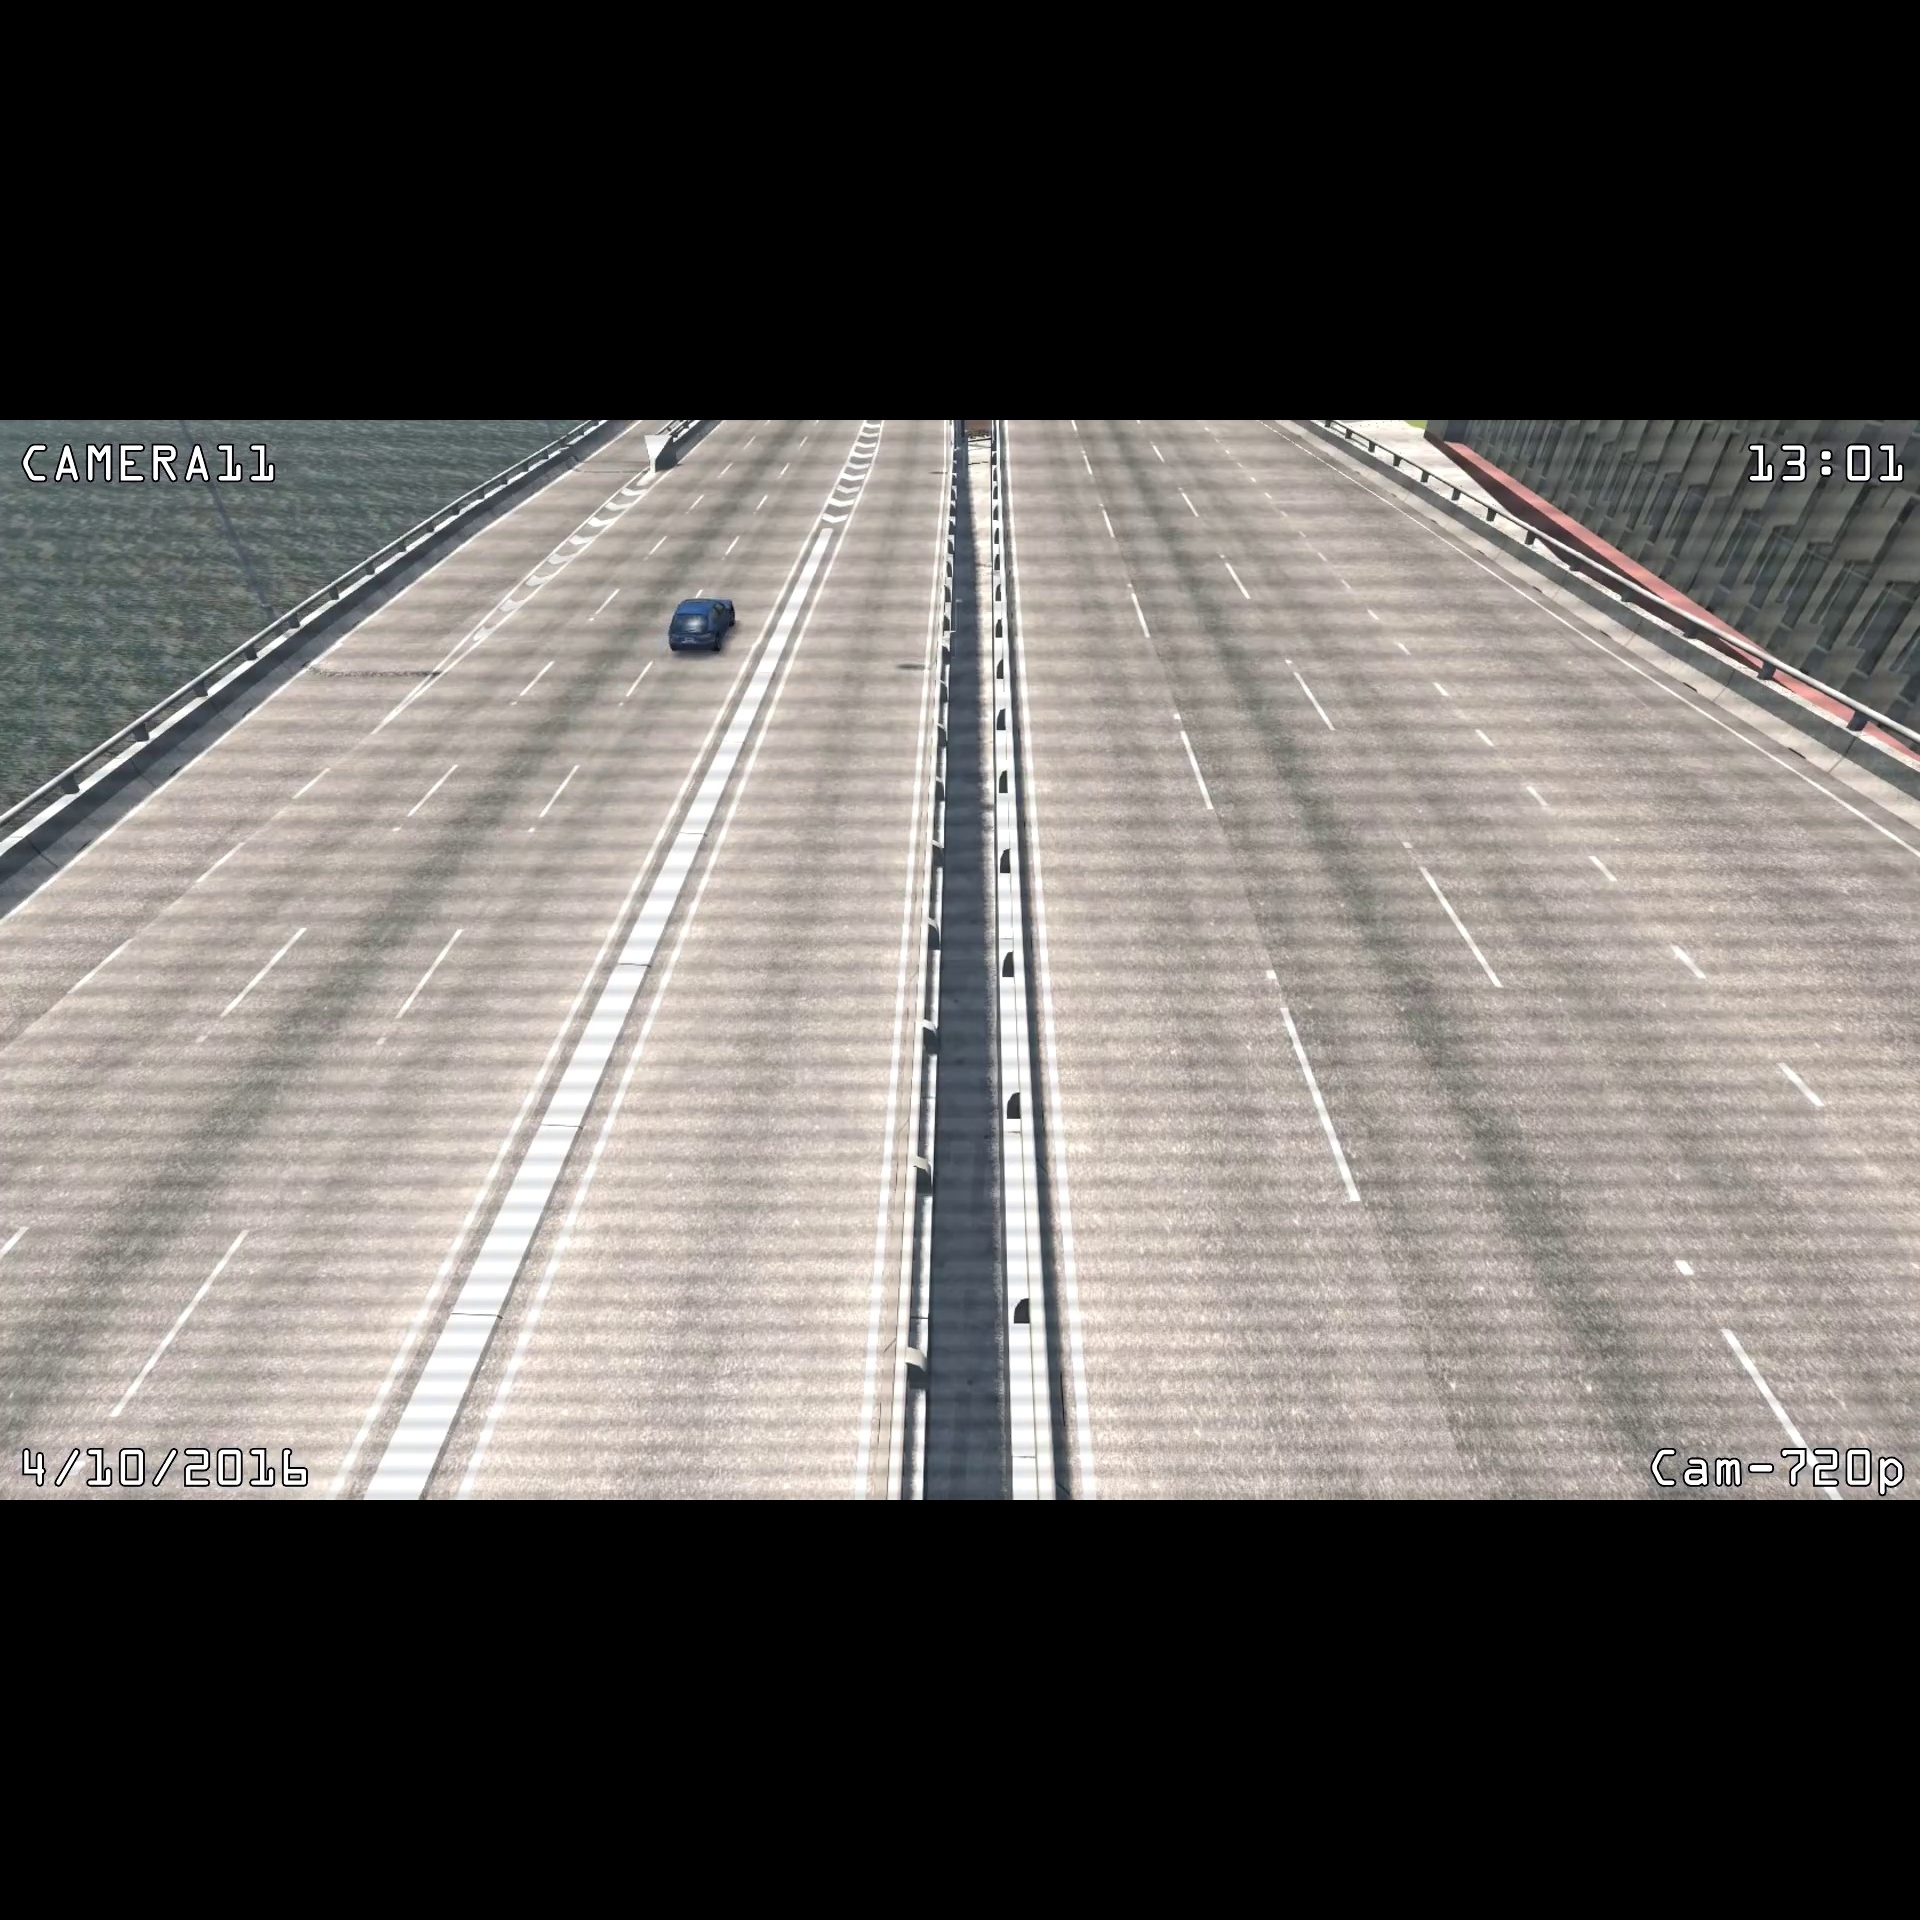vehicle: (659, 589, 742, 659)
